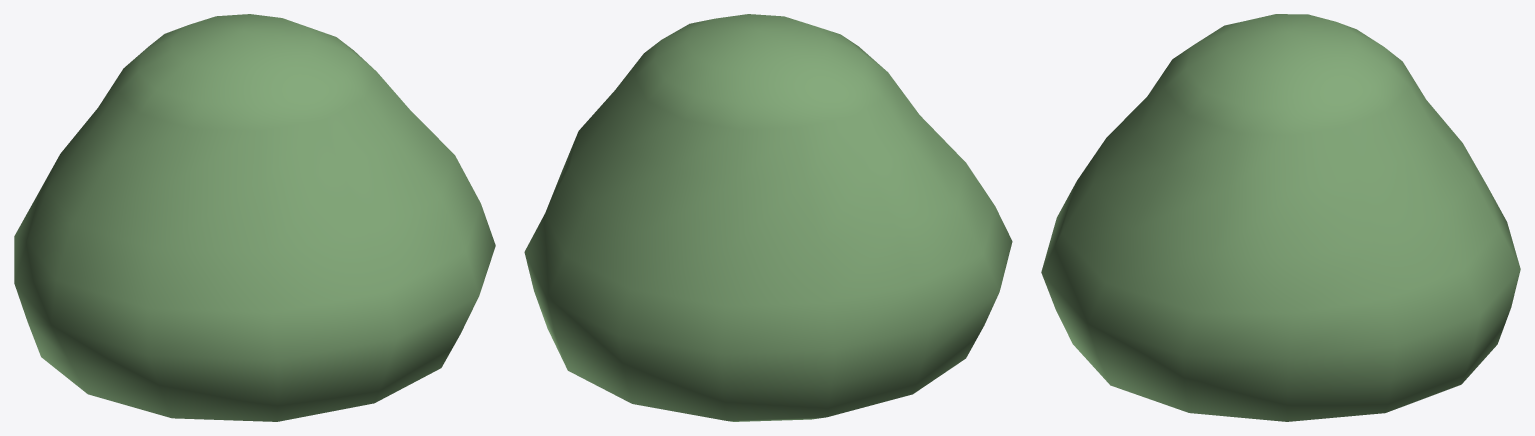
Rendered from Sombrero_5.fbx.
3 views of the same model, side by side, from view 1: azimuth 30°, elevation 25°; view 2: azimuth 150°, elevation 25°; view 3: azimuth 270°, elevation 25° (orthographic).
Parts seen in each view (by area): view 1: Sombrero_5; view 2: Sombrero_5; view 3: Sombrero_5.
Boxes of the visible parts, x1,y1,x2,y2 form: Sombrero_5: (14, 14, 495, 421); Sombrero_5: (524, 14, 1012, 421); Sombrero_5: (1041, 14, 1520, 421).
Size of the model in its own units: 0.7446 by 0.557 by 0.7291.
